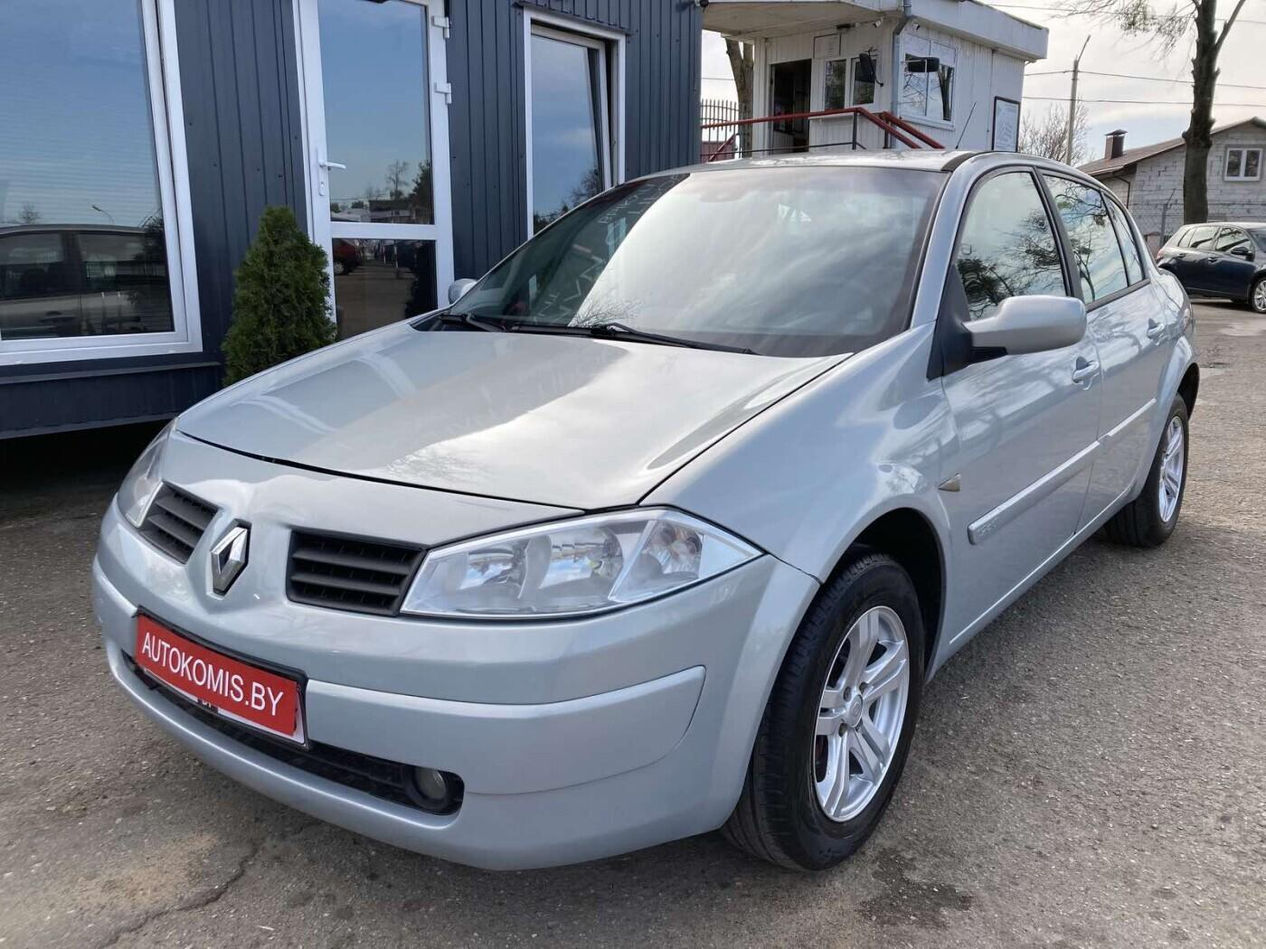Megane_2002-2006: (88, 143, 1208, 887)
